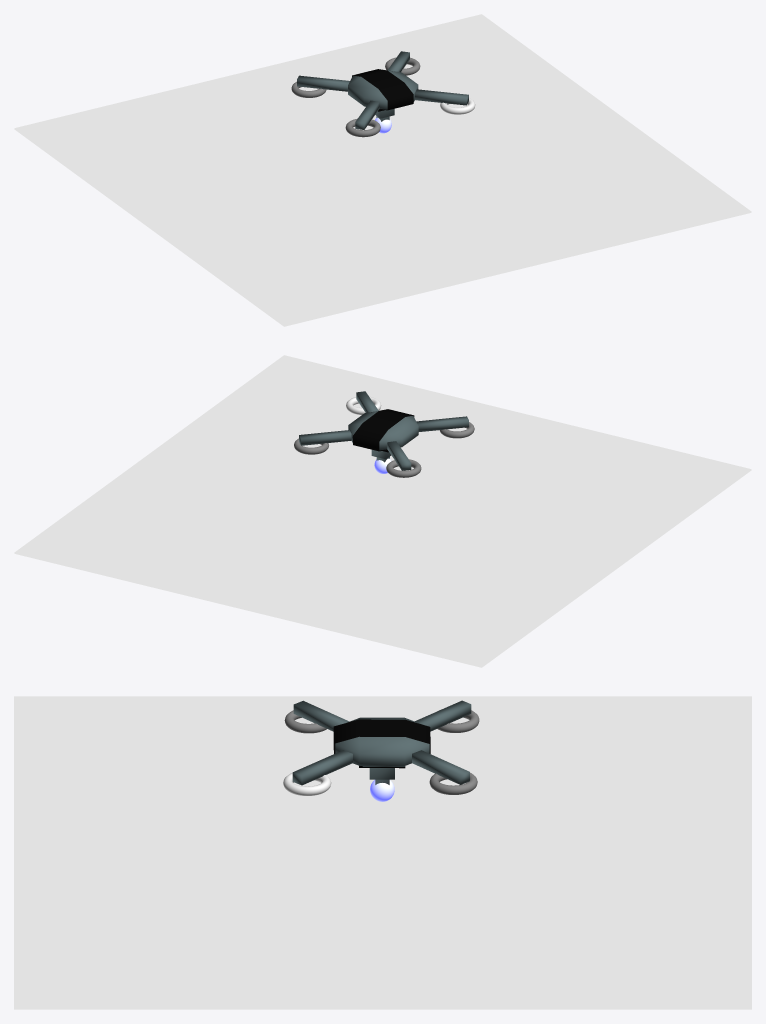
Rendered from DroneBlender.gltf.
The picture shows the model from 3 angles, top to bottom: view 1: azimuth 30°, elevation 25°; view 2: azimuth 150°, elevation 25°; view 3: azimuth 270°, elevation 25°; orthographic projection. The views are drawn at different scales.
Visible parts, largest first — view 1: Plane (×2), krop, rullebånd, venstrebagarm001, højrearm; view 2: Plane (×2), rullebånd, krop, venstrearm, venstrebagarm; view 3: Plane (×2), krop, rullebånd, venstrebagarm001, venstrearm, højrearm, venstrebagarm, venstrebagrind, venstrering.
Part boxes in pixels (x1,y1,x2,y2): Plane (×2): (14,14,751,326); krop: (348,70,418,121); rullebånd: (352,69,413,111); venstrebagarm001: (414,89,468,105); højrearm: (297,75,349,91); Plane (×2): (14,355,751,667); rullebånd: (353,409,414,452); krop: (348,411,418,462); venstrearm: (299,430,351,445); venstrebagarm: (416,416,468,431); Plane (×2): (14,696,751,1009); krop: (335,717,429,784); rullebånd: (333,719,430,768); venstrebagarm001: (292,750,352,785); venstrearm: (412,750,469,784); højrearm: (415,700,471,731); venstrebagarm: (293,700,349,731); venstrebagrind: (283,773,331,795); venstrering: (429,772,477,794).
Size of the model in its own units: 38.35 by 7.18 by 38.35.
Materials: 20 (4 with a texture image).
